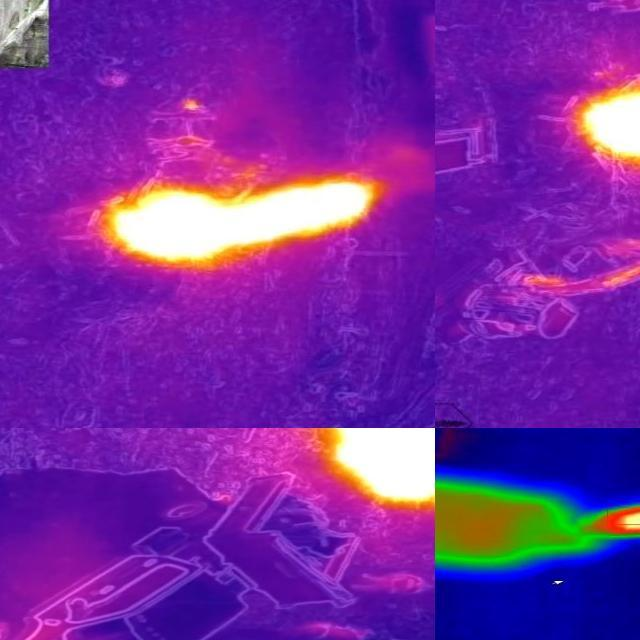fire: (103, 173, 382, 268), (318, 429, 436, 508), (574, 75, 640, 168), (585, 506, 640, 538)
